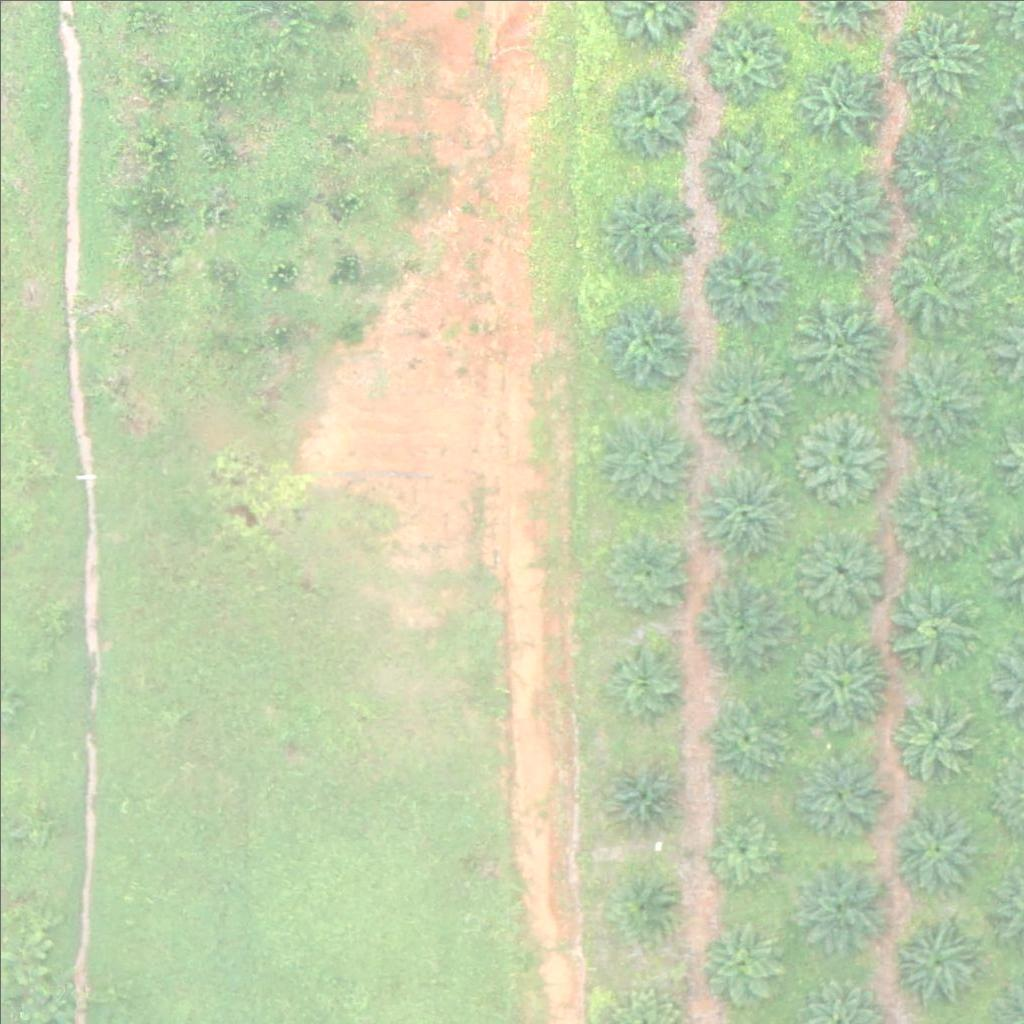Kelapa_Sawit: (794, 853, 894, 954), (889, 912, 989, 1013), (885, 466, 985, 567), (880, 345, 980, 446), (789, 406, 889, 507), (790, 295, 890, 396), (789, 162, 889, 263), (687, 461, 787, 562), (694, 350, 794, 451), (595, 291, 695, 392), (691, 573, 791, 673), (791, 634, 891, 734), (885, 577, 985, 677), (877, 237, 977, 337), (878, 117, 978, 217), (795, 522, 883, 611), (601, 630, 689, 718), (698, 693, 786, 781), (797, 749, 885, 837), (701, 239, 789, 327), (599, 183, 687, 271), (603, 69, 691, 157), (888, 12, 976, 100), (701, 921, 788, 1009), (598, 749, 685, 837), (893, 801, 980, 889), (890, 690, 977, 778), (698, 127, 785, 215), (602, 529, 689, 617), (602, 414, 689, 502), (793, 55, 880, 143), (701, 16, 788, 104), (702, 808, 777, 883), (617, 876, 680, 939)
